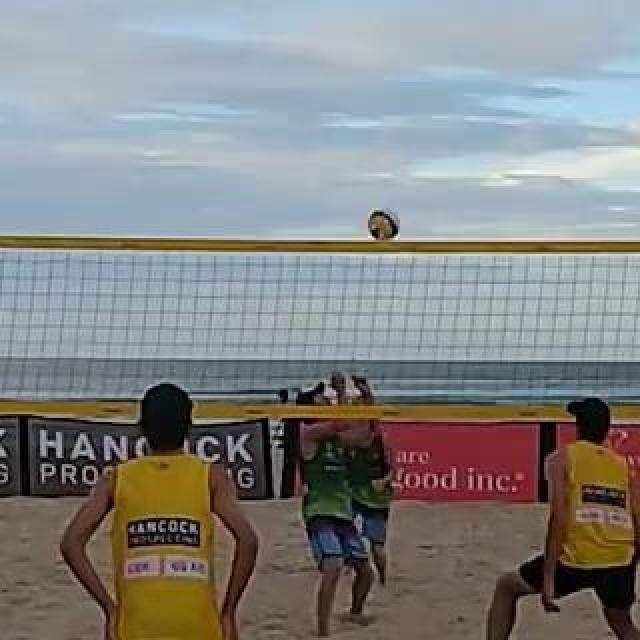volleyball: (368, 209, 400, 241)
